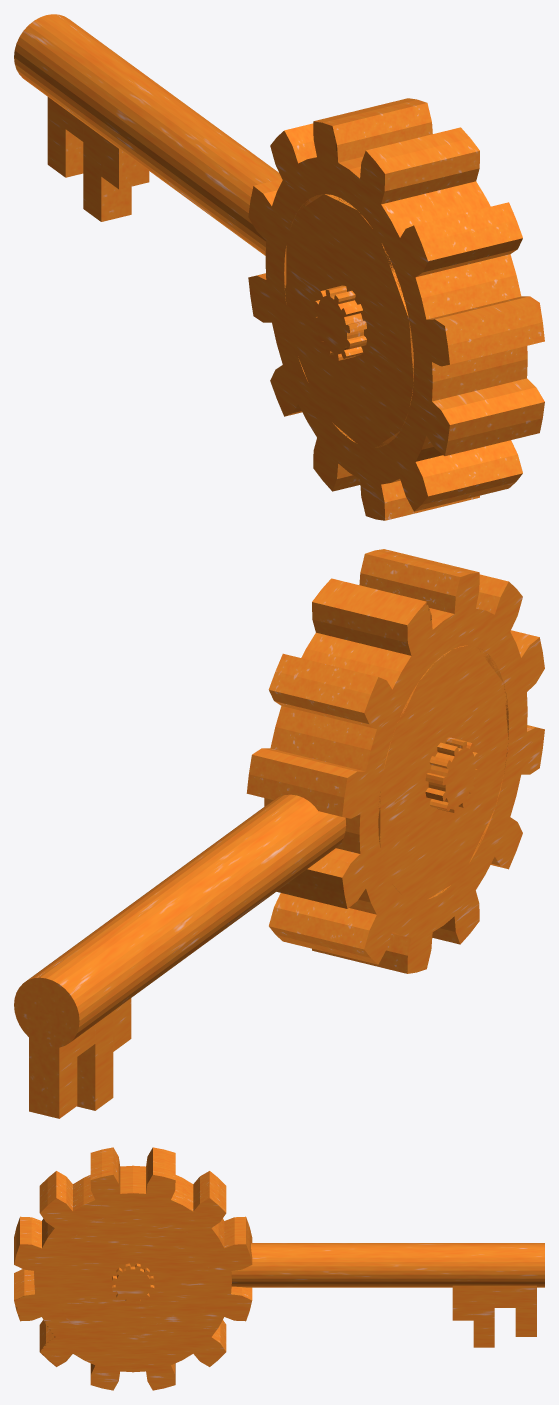
The model's file is desk_key.fbx.
The picture shows the model from 3 angles, top to bottom: view 1: azimuth 30°, elevation 25°; view 2: azimuth 150°, elevation 25°; view 3: azimuth 270°, elevation 25°; orthographic projection. The views are drawn at different scales.
Parts seen in each view (by area): view 1: Key for Desk; view 2: Key for Desk; view 3: Key for Desk.
Boxes of the visible parts, x1,y1,x2,y2 form: Key for Desk: [14, 14, 544, 520]; Key for Desk: [14, 549, 544, 1118]; Key for Desk: [14, 1147, 544, 1390].
Size of the model in its own units: 26.27 by 76.17 by 170.
1 material, 1 textured.
